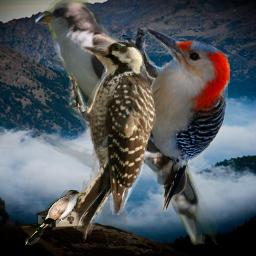Cuckoo: (35, 0, 220, 245), (25, 190, 84, 245)
Woodpecker: (122, 28, 230, 212), (64, 36, 157, 242)
